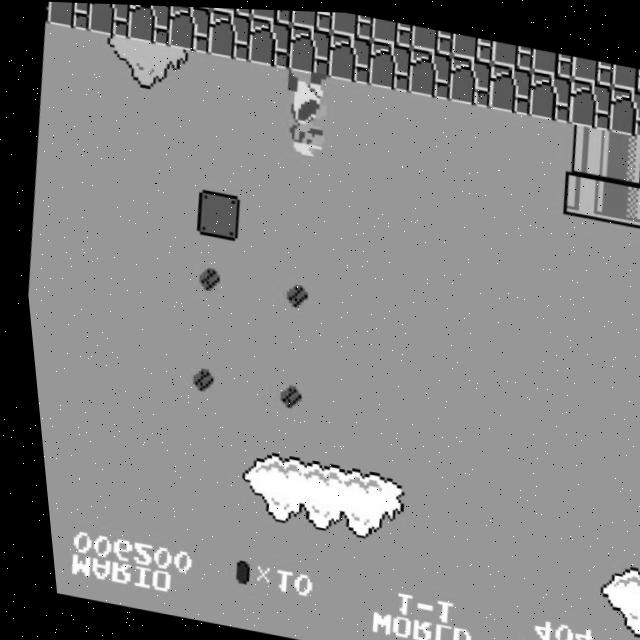14- pipe: (559, 119, 611, 172), (599, 127, 640, 180)
15- pipe_head: (556, 164, 608, 217), (596, 171, 640, 225)
17- undestructible_block: (203, 7, 255, 61), (283, 22, 335, 76), (323, 29, 375, 83), (403, 44, 455, 98), (243, 15, 295, 68), (363, 37, 415, 90), (443, 52, 495, 105), (483, 59, 535, 112), (523, 67, 575, 120), (563, 74, 615, 127), (163, 5, 215, 53), (124, 4, 175, 46), (603, 81, 640, 135), (84, 2, 135, 38), (45, 1, 95, 31), (369, 15, 415, 46), (409, 22, 455, 53), (449, 30, 495, 60), (489, 37, 535, 67), (529, 45, 575, 75), (569, 52, 615, 82), (329, 10, 375, 38), (289, 8, 335, 31), (608, 60, 640, 90), (250, 7, 295, 23), (210, 6, 255, 15), (43, 1, 54, 24)
3- empty_block: (188, 187, 240, 240)
4- fire_mario: (270, 64, 334, 165)
9- hard_block: (640, 134, 640, 186)
